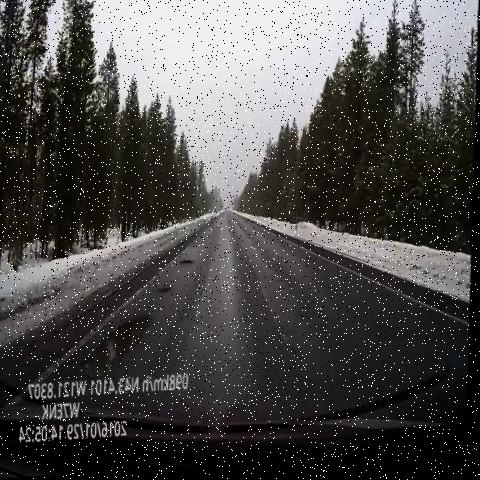pothole: (71, 312, 153, 393), (175, 247, 203, 278), (159, 280, 180, 302)
